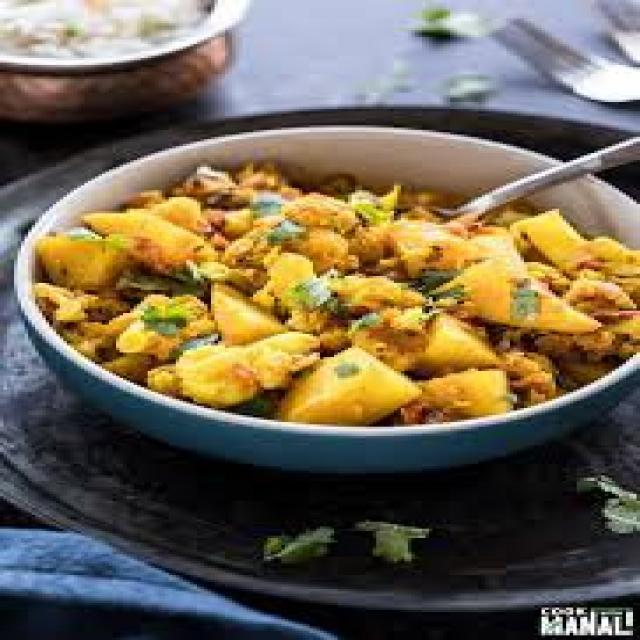aloo_gobi: (37, 150, 637, 428)
